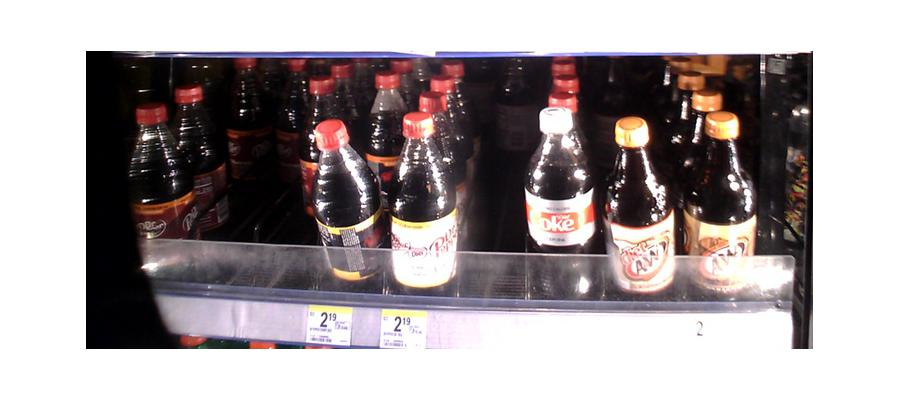bottle: (529, 100, 597, 303), (607, 117, 674, 301), (390, 110, 456, 296), (312, 110, 381, 287), (686, 105, 755, 282), (125, 98, 183, 265), (173, 57, 219, 239), (225, 56, 269, 209)
